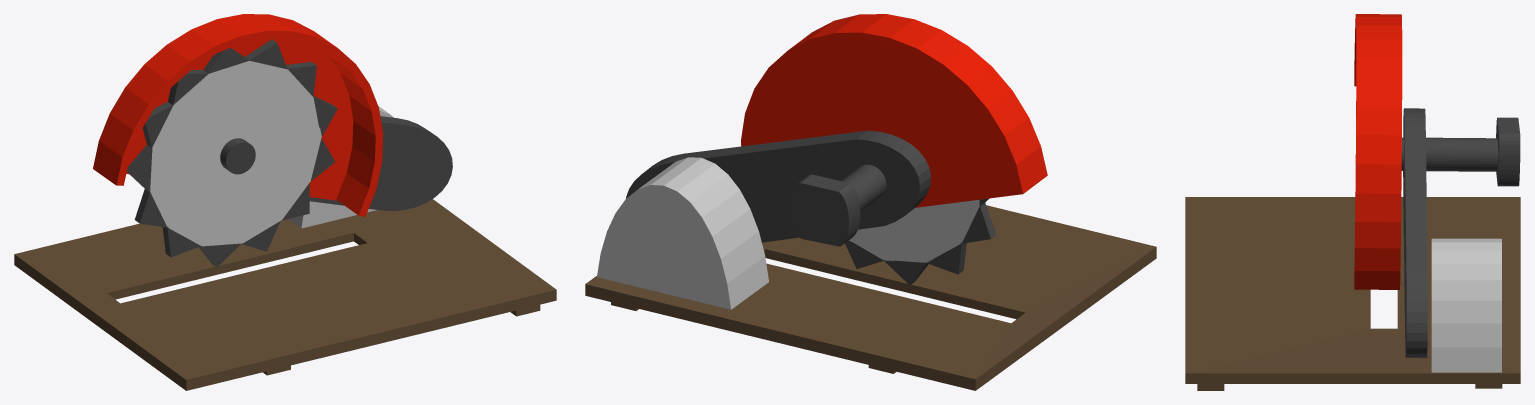
Rendered from sawAnimatedMergedBlade.glb.
3 renders of one model, left to right at view 1: azimuth 30°, elevation 25°; view 2: azimuth 150°, elevation 25°; view 3: azimuth 270°, elevation 25°, orthographic. The views are drawn at different scales.
Visible parts, largest first — view 1: Plane, Rotation, Cylinder, Arm, Cylinder.001, Pole; view 2: Plane, Cylinder, Cylinder.001, Arm, Rotation, HandProtection, Pole; view 3: Plane, Cylinder, Cylinder.001, Arm, Pole, HandProtection.
Boxes of the visible parts, <box> form: Plane: <box>14,199,556,390</box>; Rotation: <box>127,39,337,267</box>; Cylinder: <box>93,14,383,216</box>; Arm: <box>309,116,452,211</box>; Cylinder.001: <box>289,106,393,228</box>; Pole: <box>220,138,255,174</box>; Plane: <box>585,205,1156,390</box>; Cylinder: <box>741,14,1047,207</box>; Cylinder.001: <box>597,157,768,309</box>; Arm: <box>626,130,930,242</box>; Rotation: <box>845,198,996,285</box>; HandProtection: <box>789,174,860,246</box>; Pole: <box>841,164,886,211</box>; Plane: <box>1185,197,1520,390</box>; Cylinder: <box>1354,14,1402,289</box>; Cylinder.001: <box>1431,238,1501,372</box>; Arm: <box>1403,108,1427,358</box>; Pole: <box>1401,137,1498,171</box>; HandProtection: <box>1496,117,1520,186</box>.
Size of the model in its own units: 2.55 by 1.72 by 2.
